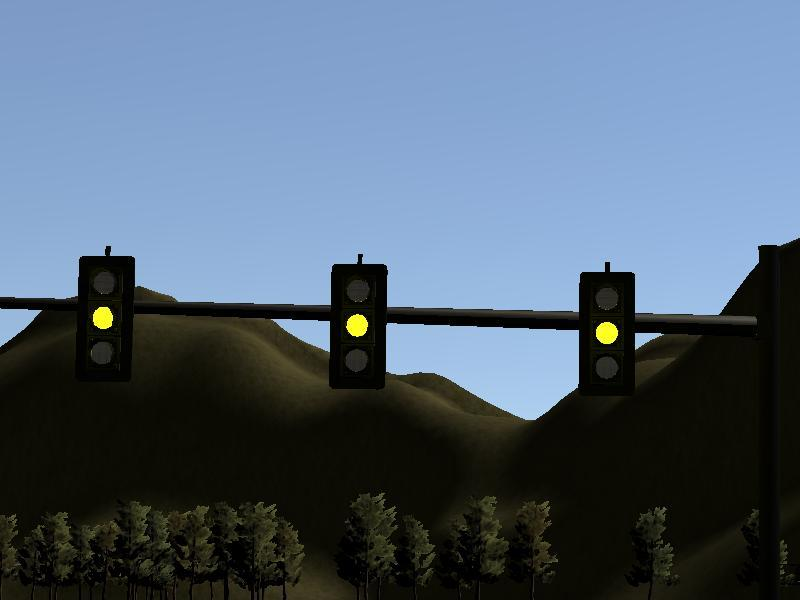Yellow: (76, 256, 135, 383), (577, 272, 636, 399), (328, 263, 387, 390)
